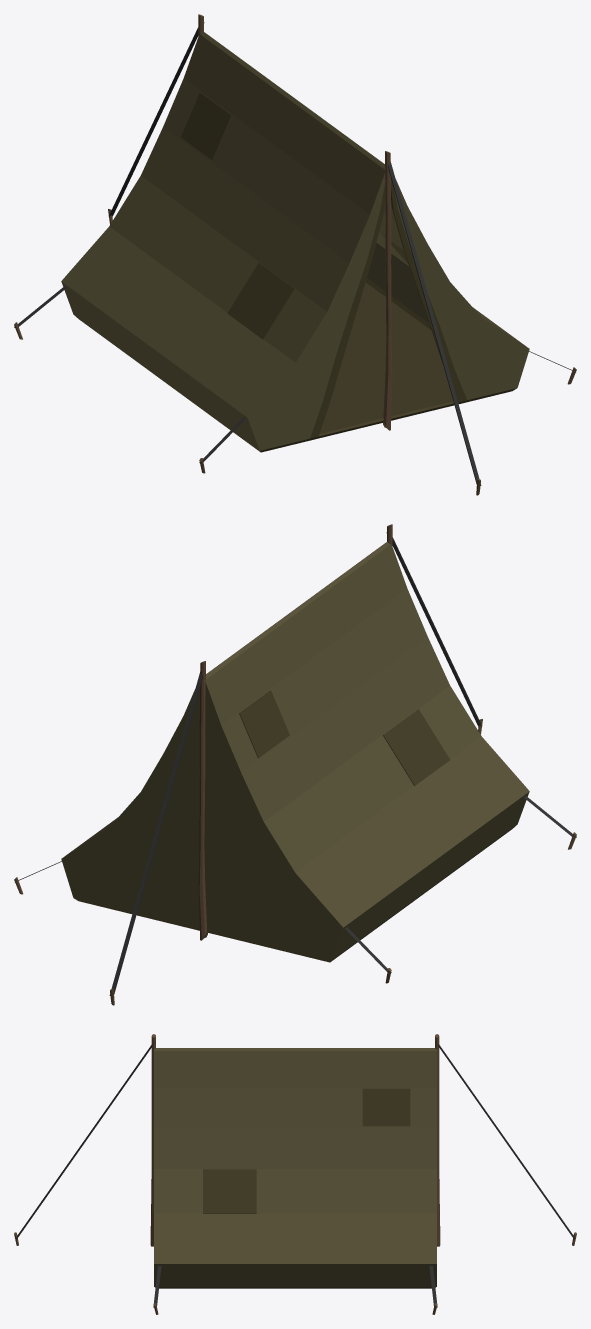
The model's file is greentent.gltf.
3 views of the same model, one above another, from view 1: azimuth 30°, elevation 25°; view 2: azimuth 150°, elevation 25°; view 3: azimuth 270°, elevation 25° (orthographic). The views are drawn at different scales.
Parts seen in each view (by area): view 1: Tent; view 2: Tent; view 3: Tent.
Boxes of the visible parts, x1,y1,x2,y2 form: Tent: (14,14,576,495); Tent: (14,524,576,1005); Tent: (14,1034,576,1314).
Bounding box in the file's own units: 14.58 × 10.32 × 24.87.
